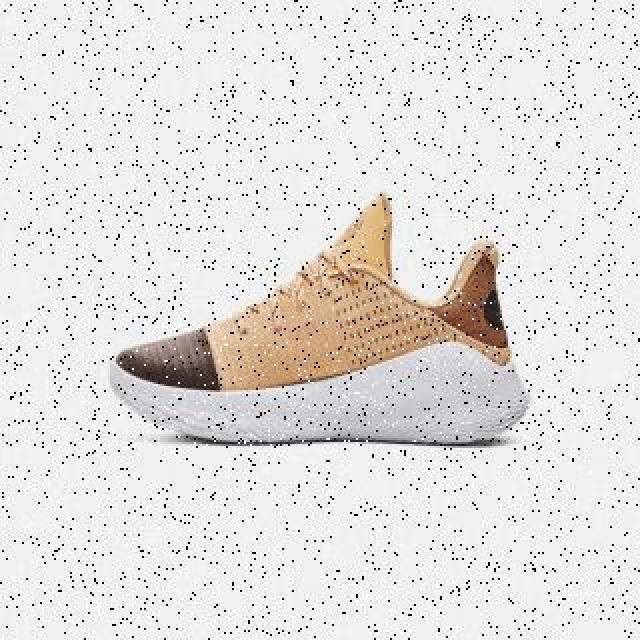shoe: (108, 190, 530, 446)
